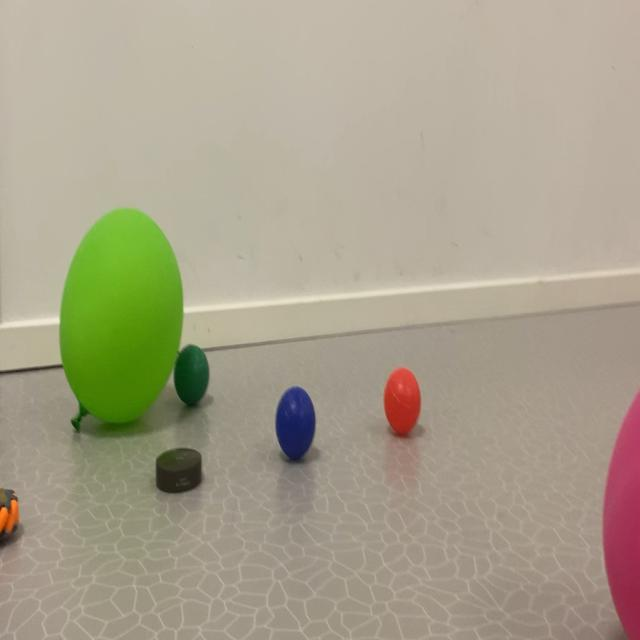7: (372, 350, 437, 495)
green ball: (262, 346, 331, 554)
red ball: (171, 318, 226, 439)
